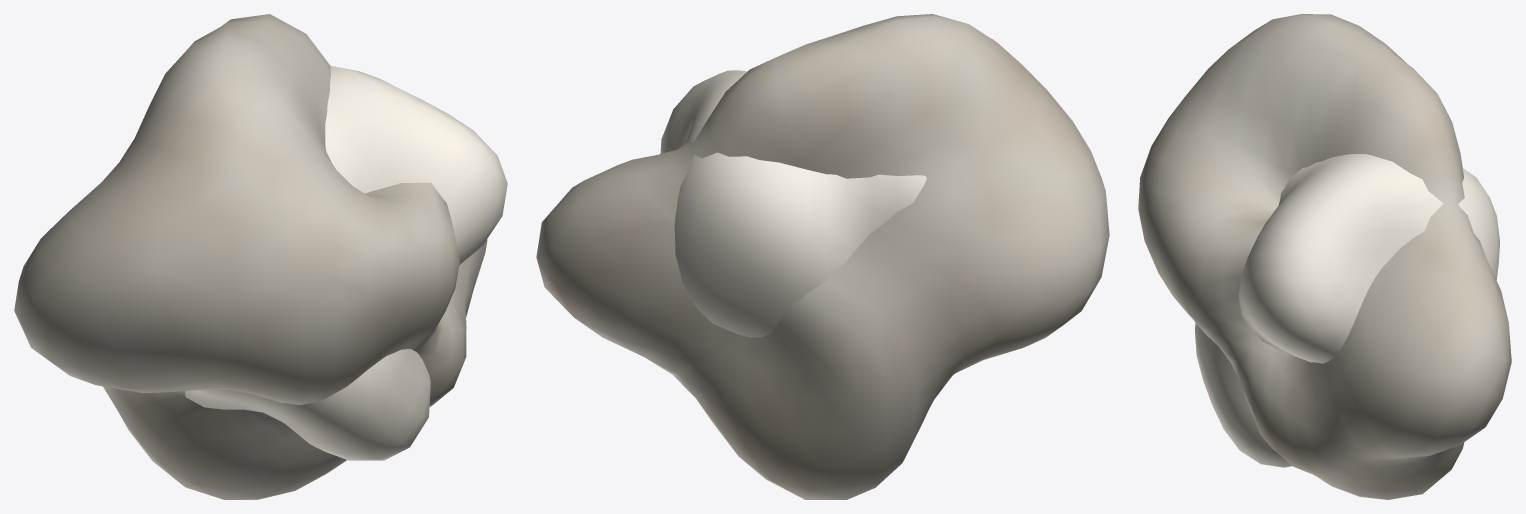
Rendered from tuber-borchii.glb.
The picture shows the model from 3 angles, left to right: view 1: azimuth 30°, elevation 25°; view 2: azimuth 150°, elevation 25°; view 3: azimuth 270°, elevation 25°; orthographic projection. The views are drawn at different scales.
Parts seen in each view (by area): view 1: peridium_wall, gleba_mass; view 2: peridium_wall, gleba_mass; view 3: peridium_wall, gleba_mass.
Boxes of the visible parts, x1,y1,x2,y2 form: peridium_wall: (14, 14, 487, 499); gleba_mass: (185, 66, 507, 460); peridium_wall: (536, 14, 1109, 499); gleba_mass: (660, 70, 926, 337); peridium_wall: (1138, 14, 1511, 499); gleba_mass: (1195, 154, 1499, 467).
Size of the model in its own units: 3 by 2.7 by 2.06.
